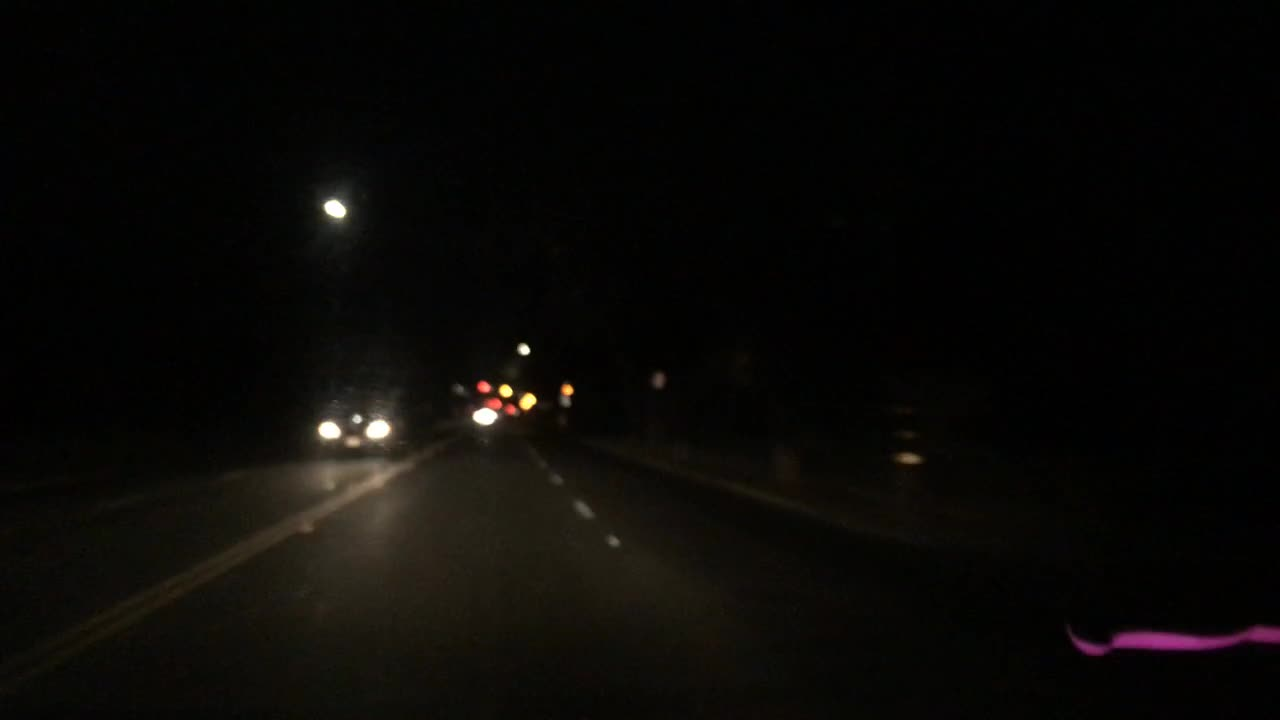car: (790, 374, 973, 492), (317, 393, 409, 458), (468, 407, 505, 428)
traffic sign: (517, 392, 535, 411), (559, 384, 573, 407), (499, 383, 511, 401), (654, 372, 664, 389)
